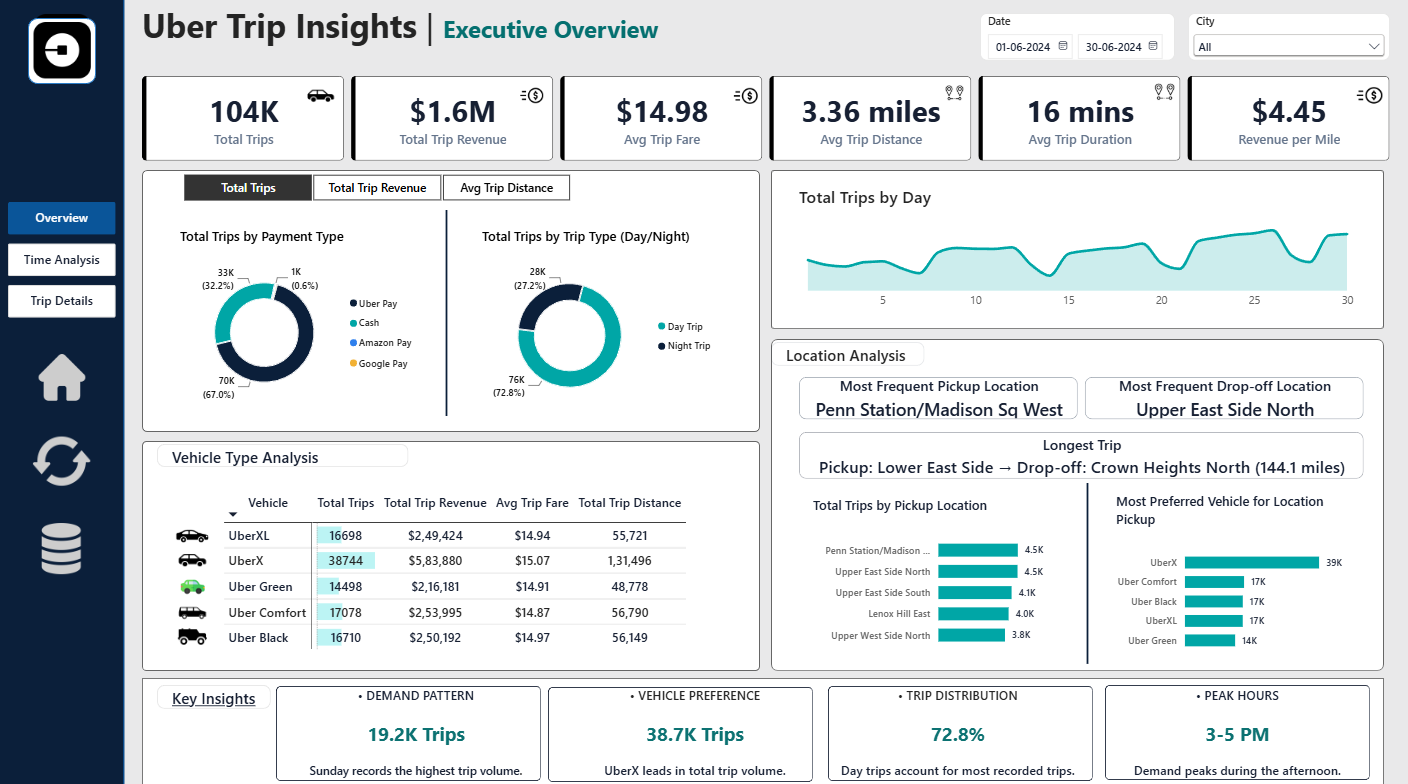

The dashboard page shown, as its layout file describes it:
{"tool":"powerbi","page":{"name":"Overview","canvas":[1600,900],"ordinal":0},"visuals":[{"type":"shape","box":[0,0,142,900],"z":0},{"type":"textbox","box":[162.2,10,605.6,57.8],"z":1000},{"type":"cardVisual","fields":{"Data":["Core Measures.Total Trips","Core Measures.Total Trip Revenue","Core Measures.Avg Trip Fare","Core Measures.Avg Trip Distance","Core Measures.Avg Trip Duration","Core Measures.Revenue per Mile"]},"box":[162,93,1415,120],"z":2000},{"type":"image","box":[584.4,102.2,37.8,25.6],"z":3000},{"type":"image","box":[1070,102.2,26.7,20],"z":4000},{"type":"image","box":[1308.9,100,23.3,22.2],"z":5000},{"type":"image","box":[1529.1,100.9,48.7,28.3],"z":6000},{"type":"image","box":[832.2,102.2,28.9,26.7],"z":7000},{"type":"shape","box":[162.2,244.4,700,325],"z":8000},{"type":"image","box":[341.1,100,47.8,31.1],"z":9000},{"type":"slicer","fields":{"Values":["Dynamic Measure.Dynamic Measure"]},"box":[246.7,253.3,492.2,34.4],"z":10000},{"type":"donutChart","title":"Total Trips by Payment Type","fields":{"Category":["FactTrips.PaymentType"],"Y":["Core Measures.Total Trips"]},"box":[191.1,304.4,300,253.3],"z":11000},{"type":"donutChart","fields":{"Category":["FactTrips.Trip Type (Day/Night)"],"Y":["Core Measures.Total Trips"]},"box":[532.2,304.4,300,253.3],"z":12000},{"type":"shape","box":[162.2,585.6,700,300],"z":13000},{"type":"pivotTable","fields":{"Rows":["FactTrips.Vehicle"],"Values":["Core Measures.Total Trips","Core Measures.Total Trip Revenue","Core Measures.Avg Trip Fare","Core Measures.Total Trip Distance"]},"box":[237.8,634.4,617.8,251.1],"z":14000},{"type":"image","box":[189.8,681.1,52.2,41.1],"z":15000},{"type":"image","box":[193.7,713.3,44.4,32.2],"z":16000},{"type":"image","box":[192.6,745.6,46.7,26.7],"z":17000},{"type":"image","box":[193.1,772.2,45.6,34.4],"z":18000},{"type":"image","box":[189.8,798.9,52.2,33.3],"z":19000},{"type":"cardVisual","fields":{"Data":["FactTrips.Title for Grid"]},"box":[180,600,285.6,26.7],"z":20000},{"type":"shape","box":[883.3,243.3,694,185],"z":21000},{"type":"areaChart","fields":{"Category":["DimDate.Day"],"Y":["Core Measures.Total Trips"]},"box":[905.6,247.8,648,176.7],"z":22000},{"type":"shape","box":[884.1,448.9,693.7,437.5],"z":23000},{"type":"cardVisual","fields":{"Data":["Measures Table.Most Frequent Pickup Point","Measures Table.Most Frequent DropOff Location"]},"box":[906.8,496.5,648.4,61.2],"z":24000},{"type":"cardVisual","fields":{"Data":["Measures Table.Farthest Trip"]},"box":[906.8,565.6,648.4,61.2],"z":25000},{"type":"barChart","title":"Total Trips by Pickup Location","fields":{"Category":["DimPickup.PickupLocation"],"Y":["Core Measures.Total Trips"]},"box":[906.7,635.6,303.8,249.4],"z":26000},{"type":"barChart","title":"Most Preferred Vehicle for Location Pickup","fields":{"Category":["FactTrips.Vehicle"],"Y":["CountNonNull(FactTrips.PULocationID)"]},"box":[1253.7,637,323,249.4],"z":27000},{"type":"shape","box":[491.1,304.4,27.8,258.9],"z":28000},{"type":"shape","box":[1223.3,635.6,12.2,247.8],"z":29000},{"type":"cardVisual","fields":{"Data":["FactTrips.Title for Location"]},"box":[906.8,460.2,174.6,27.2],"z":30000},{"type":"slicer","fields":{"Values":["DimDate.Date"]},"box":[1112,21.5,221,54.4],"z":31000},{"type":"slicer","fields":{"Values":["DimPickup.PickupCity"]},"box":[1347.7,21.5,229,54.4],"z":32000},{"type":"image","box":[19.3,22.7,105.4,64.6],"z":32001},{"type":"shape","box":[33.3,26.7,77.1,74.8],"z":32002},{"type":"pageNavigator","box":[10.2,235.8,122.4,131.5],"z":32004},{"type":"image","box":[17.8,32.2,106.7,64.4],"z":32005},{"type":"image","box":[15.6,407.8,111.1,53.3],"z":32006},{"type":"image","box":[12.2,496.7,116.7,65.6],"z":32008},{"type":"image","box":[13.3,600,114.4,57.8],"z":32009}]}

Visuals, with their boxes on the page's 1600x900 design canvas (x1, y1, x2, y2). These are canvas units, not pixel positions in the 1408x784 screenshot, which may show the page scaled, cropped or inside an application window:
shape: <box>0,0,142,900</box>
textbox: <box>162,10,768,68</box>
cardVisual - Core Measures.Total Trips x Core Measures.Total Trip Revenue: <box>162,93,1577,213</box>
image: <box>584,102,622,128</box>
image: <box>1070,102,1097,122</box>
image: <box>1309,100,1332,122</box>
image: <box>1529,101,1578,129</box>
image: <box>832,102,861,129</box>
shape: <box>162,244,862,569</box>
image: <box>341,100,389,131</box>
slicer - Dynamic Measure.Dynamic Measure: <box>247,253,739,288</box>
"Total Trips by Payment Type" donutChart: <box>191,304,491,558</box>
donutChart - FactTrips.Trip Type (Day/Night) x Core Measures.Total Trips: <box>532,304,832,558</box>
shape: <box>162,586,862,886</box>
pivotTable - FactTrips.Vehicle x Core Measures.Total Trips: <box>238,634,856,886</box>
image: <box>190,681,242,722</box>
image: <box>194,713,238,746</box>
image: <box>193,746,239,772</box>
image: <box>193,772,239,807</box>
image: <box>190,799,242,832</box>
cardVisual - FactTrips.Title for Grid: <box>180,600,466,627</box>
shape: <box>883,243,1577,428</box>
areaChart - DimDate.Day x Core Measures.Total Trips: <box>906,248,1554,424</box>
shape: <box>884,449,1578,886</box>
cardVisual - Measures Table.Most Frequent Pickup Point x Measures Table.Most Frequent DropOff Location: <box>907,496,1555,558</box>
cardVisual - Measures Table.Farthest Trip: <box>907,566,1555,627</box>
"Total Trips by Pickup Location" barChart: <box>907,636,1210,885</box>
"Most Preferred Vehicle for Location Pickup" barChart: <box>1254,637,1577,886</box>
shape: <box>491,304,519,563</box>
shape: <box>1223,636,1236,883</box>
cardVisual - FactTrips.Title for Location: <box>907,460,1081,487</box>
slicer - DimDate.Date: <box>1112,22,1333,76</box>
slicer - DimPickup.PickupCity: <box>1348,22,1577,76</box>
image: <box>19,23,125,87</box>
shape: <box>33,27,110,102</box>
pageNavigator: <box>10,236,133,367</box>
image: <box>18,32,124,97</box>
image: <box>16,408,127,461</box>
image: <box>12,497,129,562</box>
image: <box>13,600,128,658</box>
